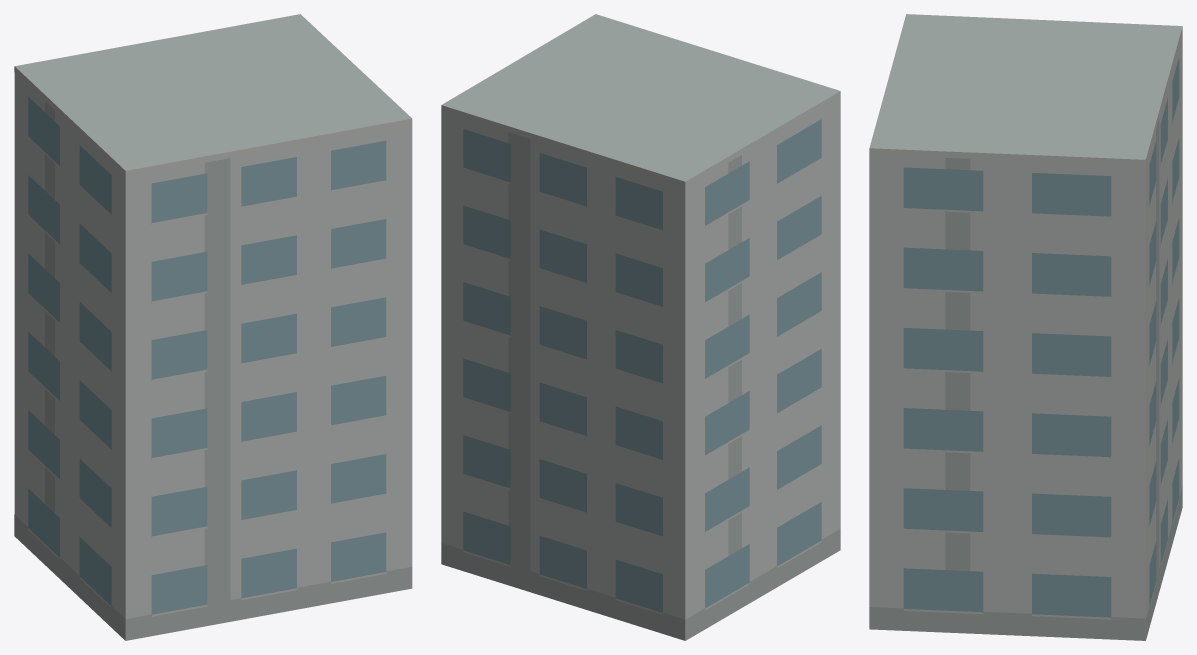
Rendered from survey-upis-32880331.glb.
The picture shows the model from 3 angles, left to right: view 1: azimuth 30°, elevation 25°; view 2: azimuth 150°, elevation 25°; view 3: azimuth 270°, elevation 25°; orthographic projection. The views are drawn at different scales.
Visible parts, largest first — view 1: survey-upis-32880331.tmp; view 2: survey-upis-32880331.tmp; view 3: survey-upis-32880331.tmp.
Boxes of the visible parts, bbox=[...] form: survey-upis-32880331.tmp: bbox=[14, 14, 412, 640]; survey-upis-32880331.tmp: bbox=[441, 14, 840, 640]; survey-upis-32880331.tmp: bbox=[869, 14, 1182, 640].
Size of the model in its own units: 11.97 by 18.4 by 10.87.
